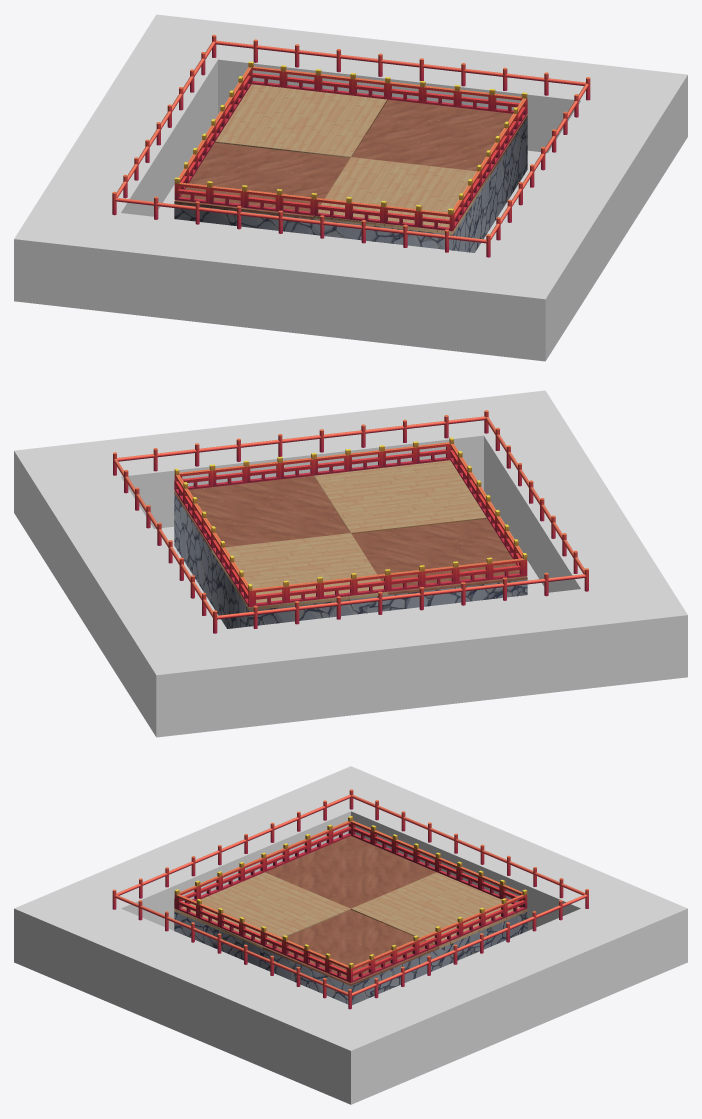
The model's file is Boss_Stage FirstBlood Variant.fbx.
The picture shows the model from 3 angles, top to bottom: view 1: azimuth 30°, elevation 25°; view 2: azimuth 150°, elevation 25°; view 3: azimuth 270°, elevation 25°; orthographic projection. The views are drawn at different scales.
Parts seen in each view (by area): view 1: Plane.086, Platform_Cube_2.001, Cube.201, Cube.202; view 2: Plane.086, Platform_Cube_2.001, Cube.201, Cube.202; view 3: Plane.086, Platform_Cube_2.001, Cube.201, Cube.202.
Part boxes in pixels (x1,y1,x2,y2): Plane.086: (14,14,687,361); Platform_Cube_2.001: (174,84,527,252); Cube.201: (174,61,527,231); Cube.202: (112,34,590,257); Plane.086: (14,390,687,737); Platform_Cube_2.001: (174,460,527,628); Cube.201: (174,437,527,607); Cube.202: (113,410,588,633); Plane.086: (14,766,687,1104); Platform_Cube_2.001: (174,836,527,1005); Cube.201: (174,816,527,982); Cube.202: (112,789,588,1009).
Bounding box in the file's own units: 11335 × 1346 × 11335.
